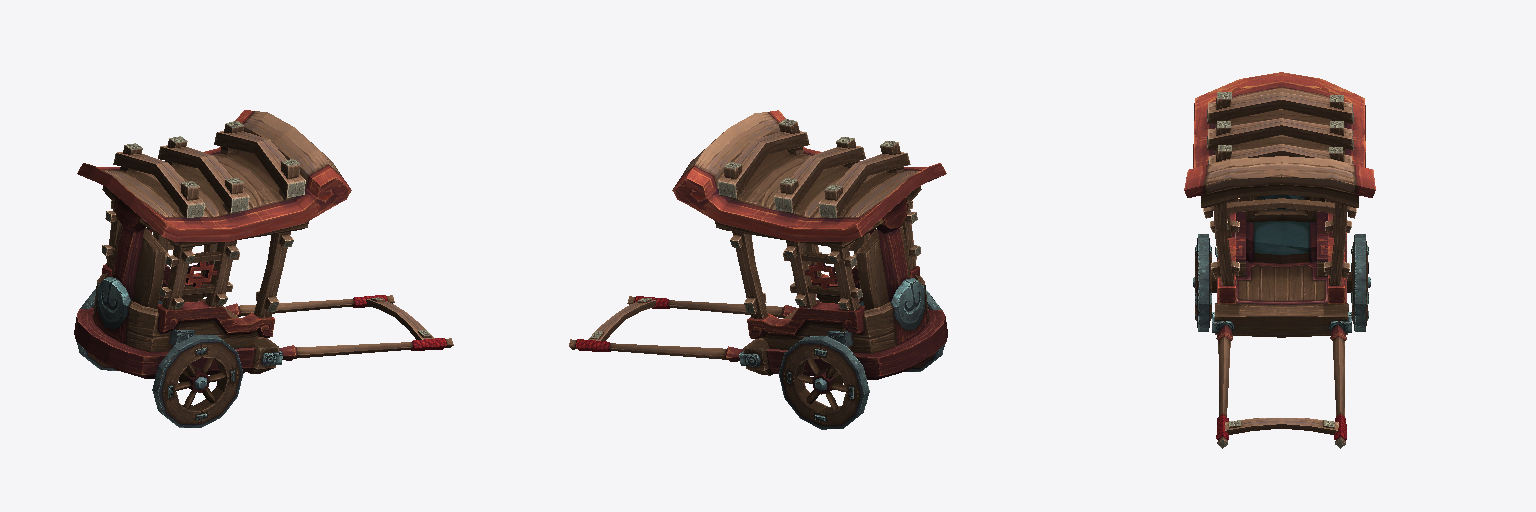
3 views of the same model, side by side, from view 1: azimuth 30°, elevation 25°; view 2: azimuth 150°, elevation 25°; view 3: azimuth 270°, elevation 25° (orthographic).
Parts seen in each view (by area): view 1: PA_Rickshaw_01; view 2: PA_Rickshaw_01; view 3: PA_Rickshaw_01.
Boxes of the visible parts, x1,y1,x2,y2 form: PA_Rickshaw_01: [74, 110, 453, 427]; PA_Rickshaw_01: [569, 110, 947, 429]; PA_Rickshaw_01: [1184, 72, 1375, 448].
Bounding box in the file's own units: 6.8 × 4.62 × 3.38.
Materials: 2 (2 with a texture image).